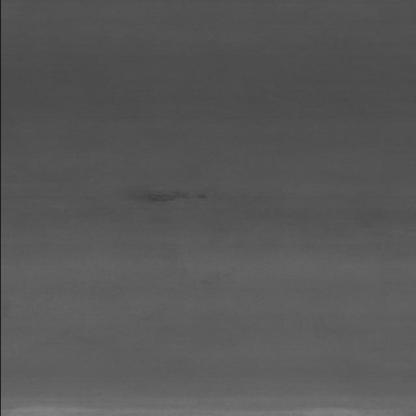water_spot: (132, 181, 216, 210)
